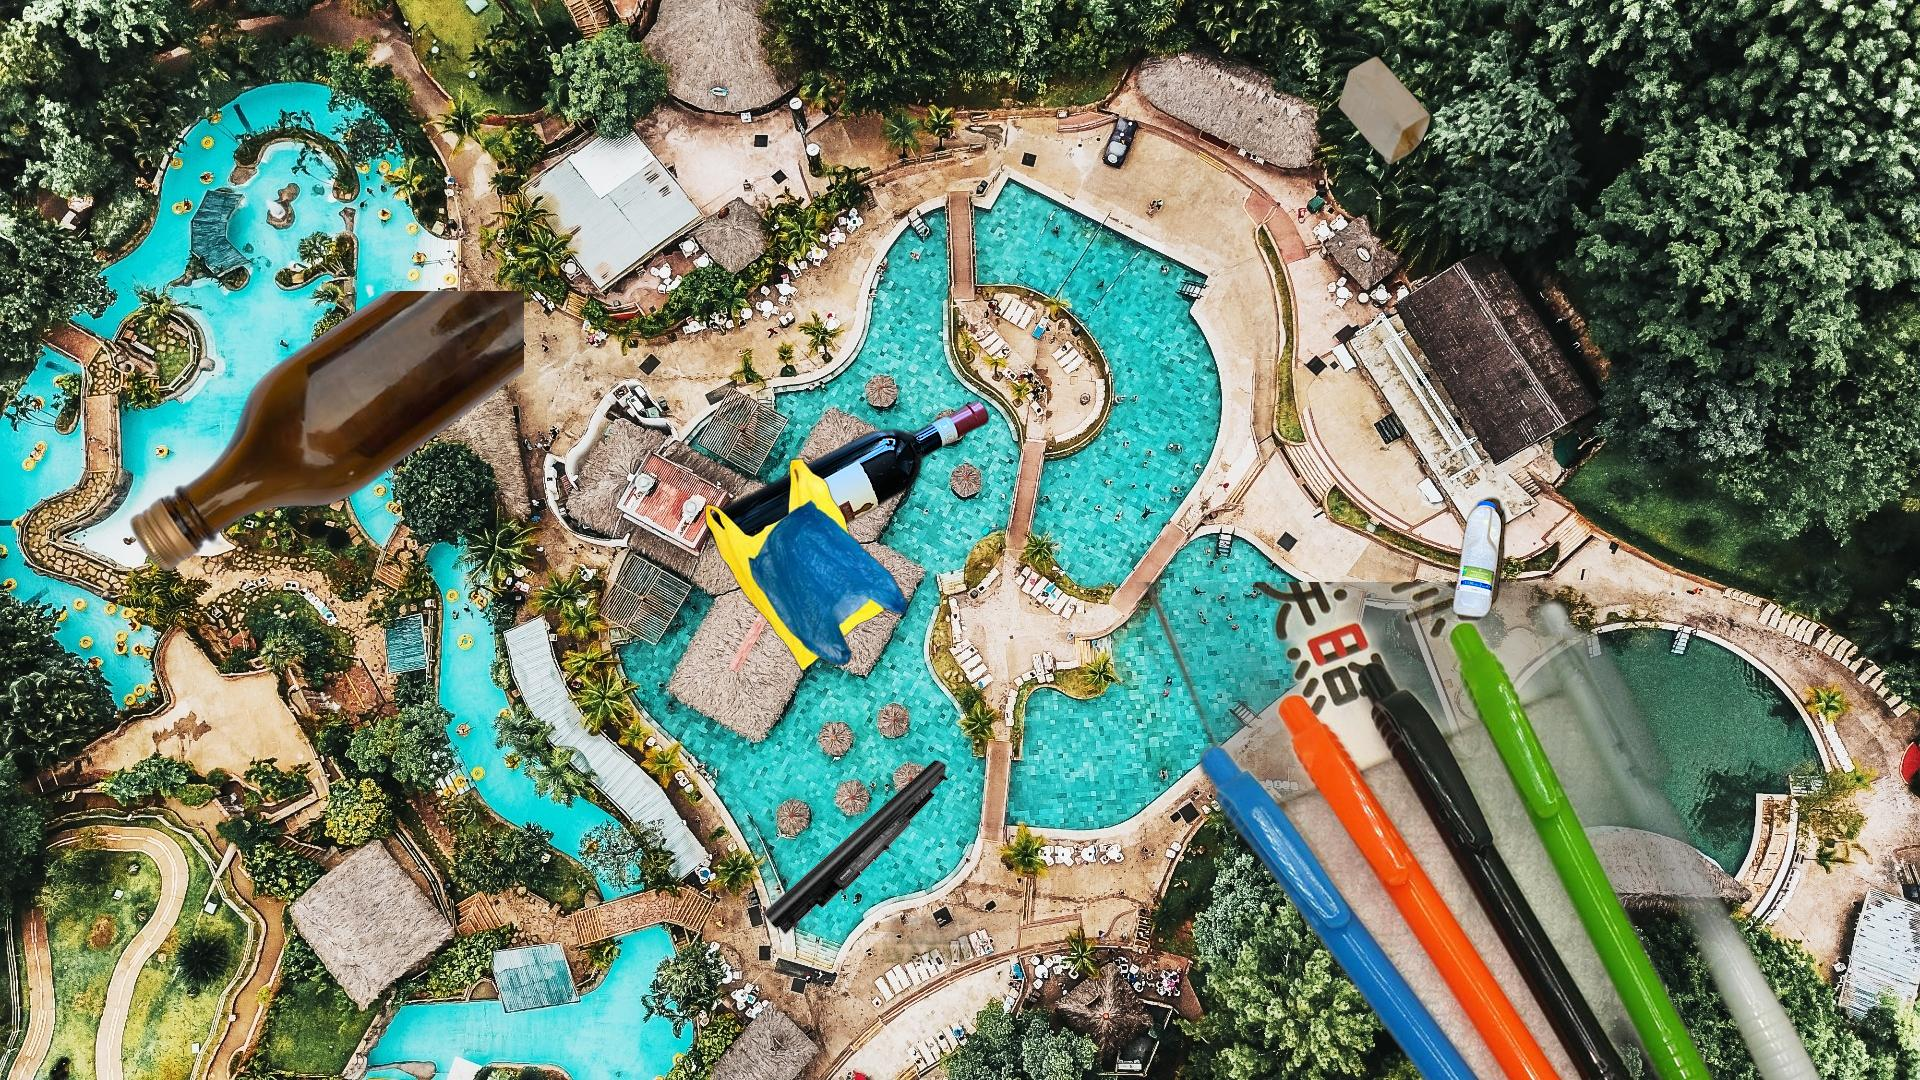battery: (762, 757, 971, 963)
glass: (127, 291, 524, 574), (702, 396, 994, 584)
paper-bag: (1158, 49, 1433, 167)
penholder: (1135, 582, 1869, 1080)
plastic-bag: (704, 456, 911, 674)
plastic-bottles: (1429, 491, 1511, 665)
